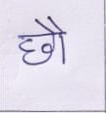o_matra: (55, 19, 69, 63)
